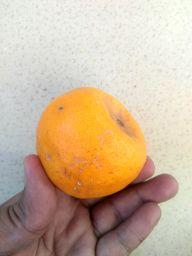Unripe: (37, 87, 149, 200)
